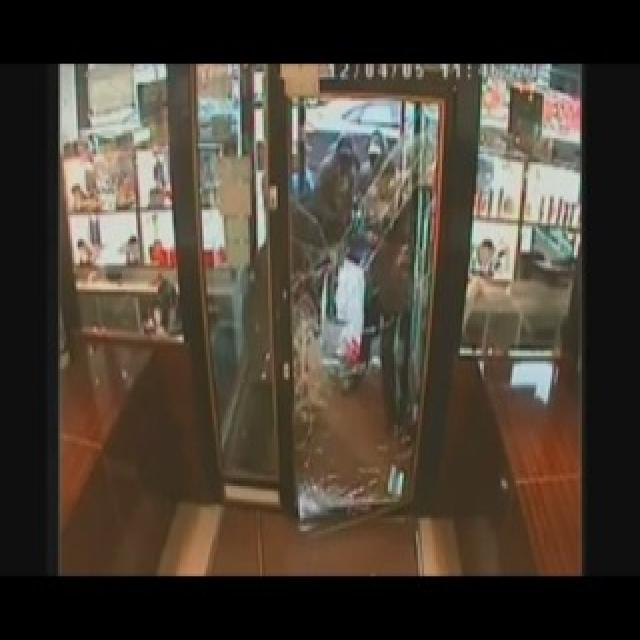thief: (306, 132, 418, 418)
